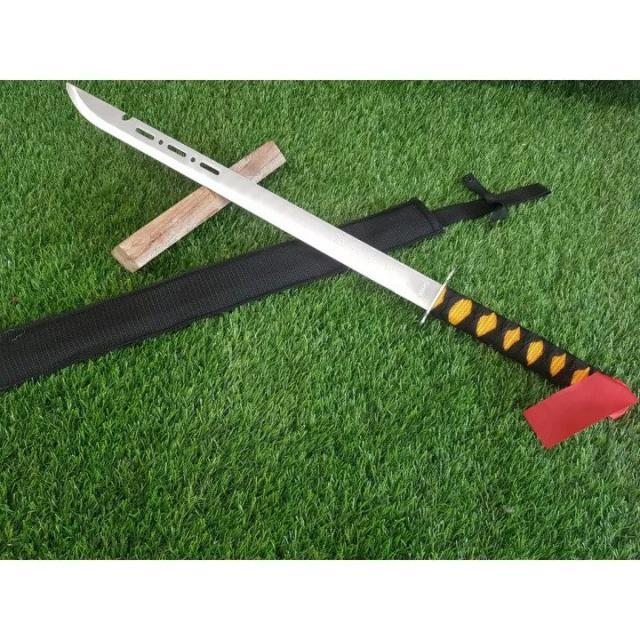short sword: (52, 79, 640, 445)
